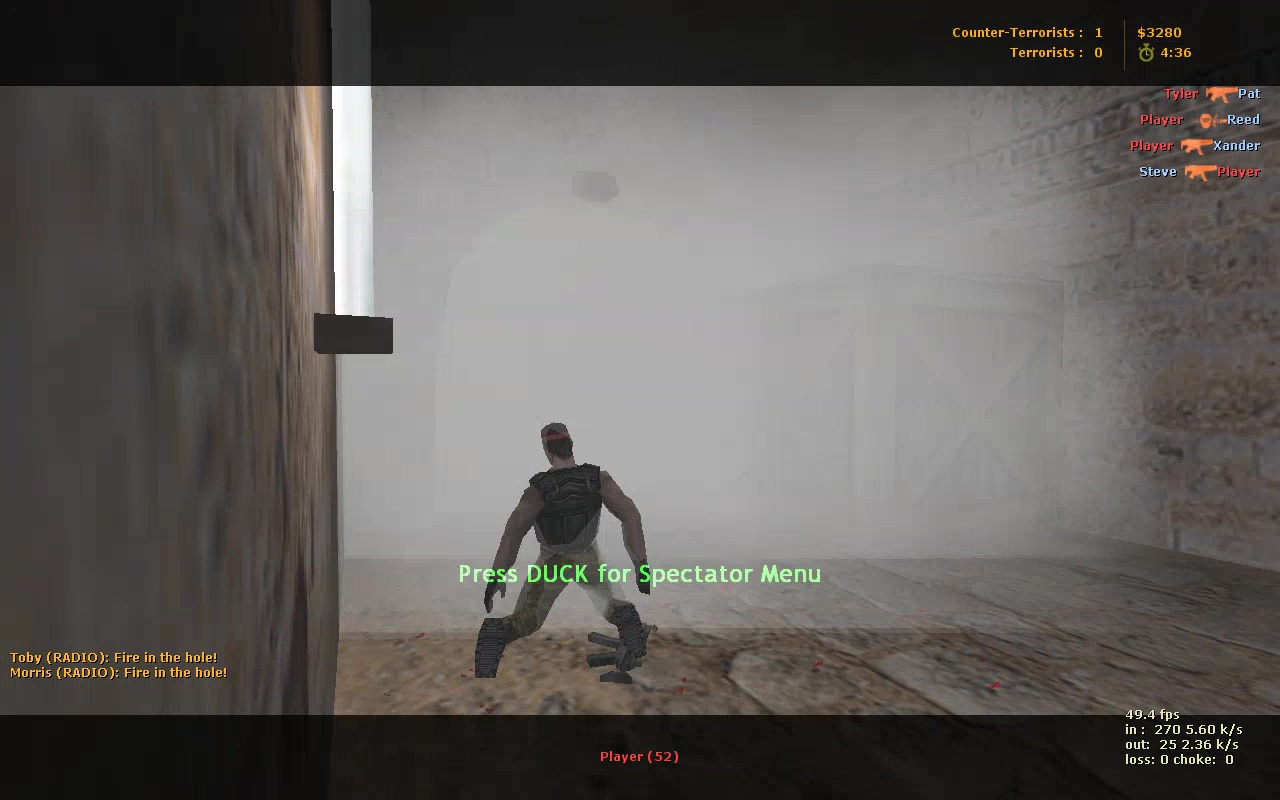terr1: (473, 420, 651, 665)
